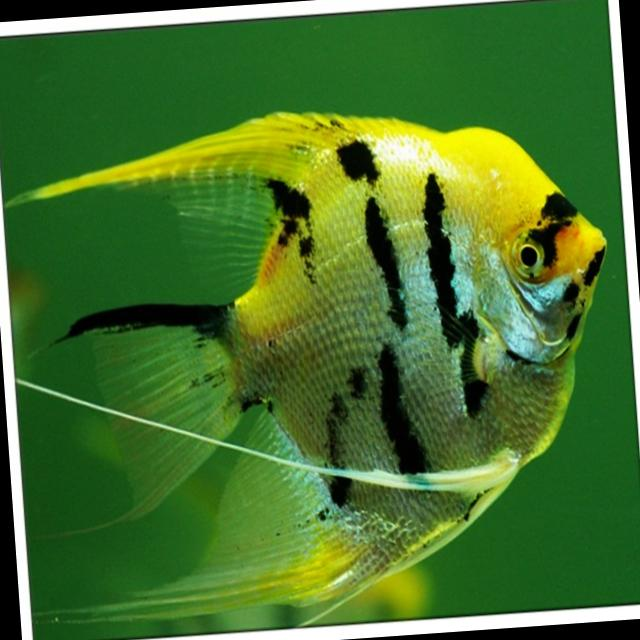AngelFish: (27, 91, 636, 618)
